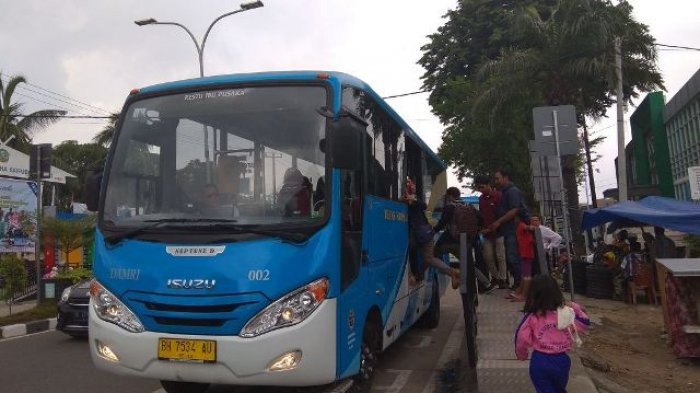plate: (159, 337, 216, 362)
